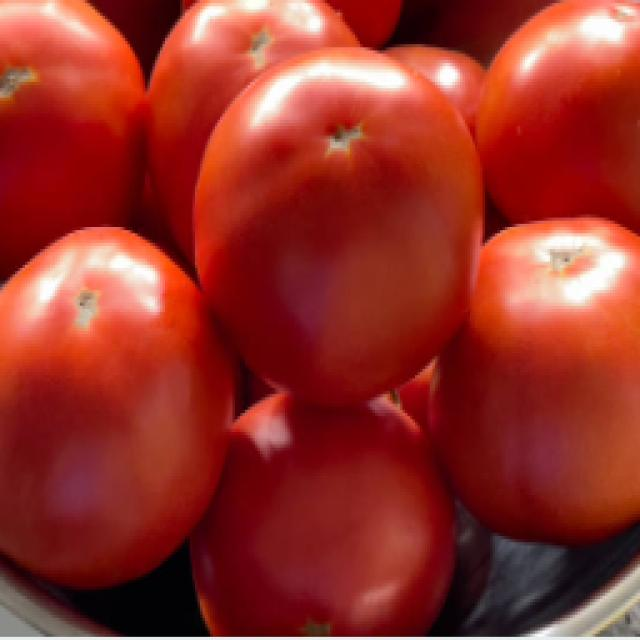Tomato: (185, 52, 486, 399)
